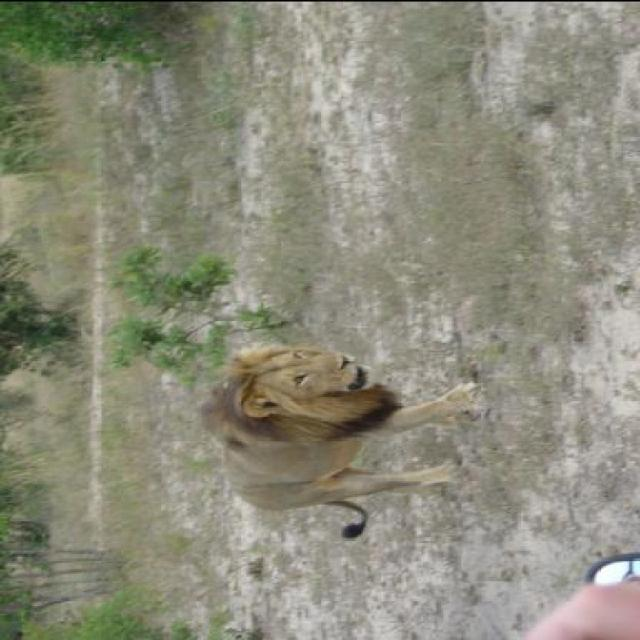Lion: (188, 324, 504, 544)
